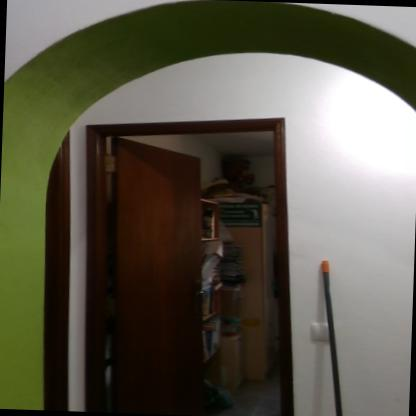semi: (53, 90, 312, 416)
